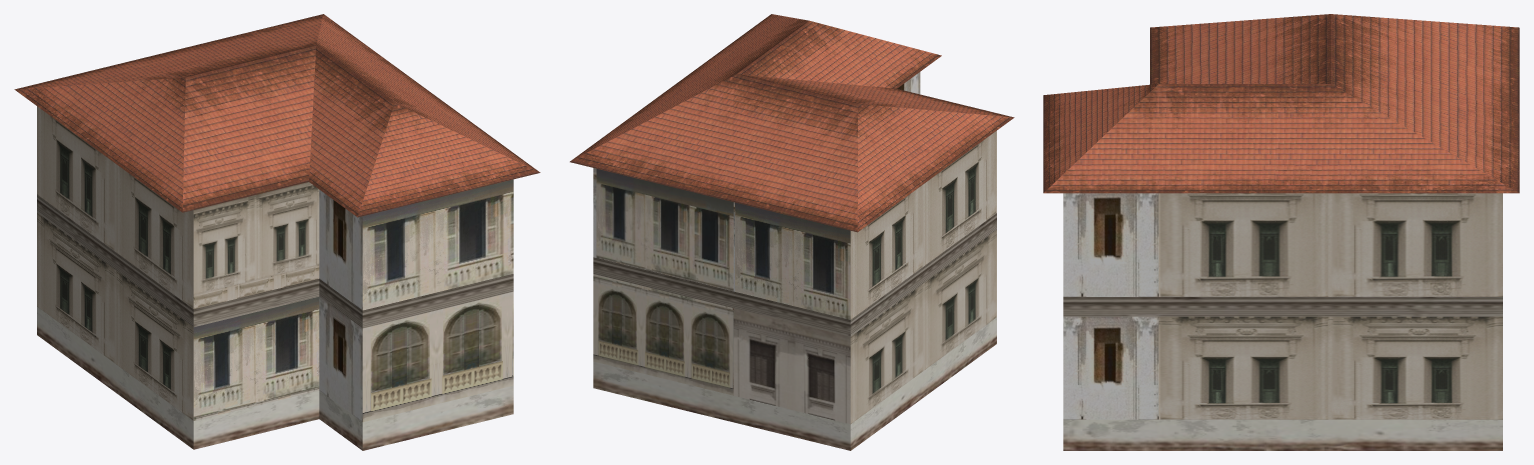
The model's file is SM_Building_ColonialHouse_02.fbx.
3 renders of one model, left to right at view 1: azimuth 30°, elevation 25°; view 2: azimuth 150°, elevation 25°; view 3: azimuth 270°, elevation 25°, orthographic. The views are drawn at different scales.
Visible parts, largest first — view 1: SM_Building_ColonialHouse_02; view 2: SM_Building_ColonialHouse_02; view 3: SM_Building_ColonialHouse_02.
Part boxes in pixels (x1,y1,x2,y2): SM_Building_ColonialHouse_02: [14, 14, 540, 450]; SM_Building_ColonialHouse_02: [570, 14, 1014, 450]; SM_Building_ColonialHouse_02: [1043, 14, 1519, 450].
Bounding box in the file's own units: 12.32 × 11.33 × 14.96.
